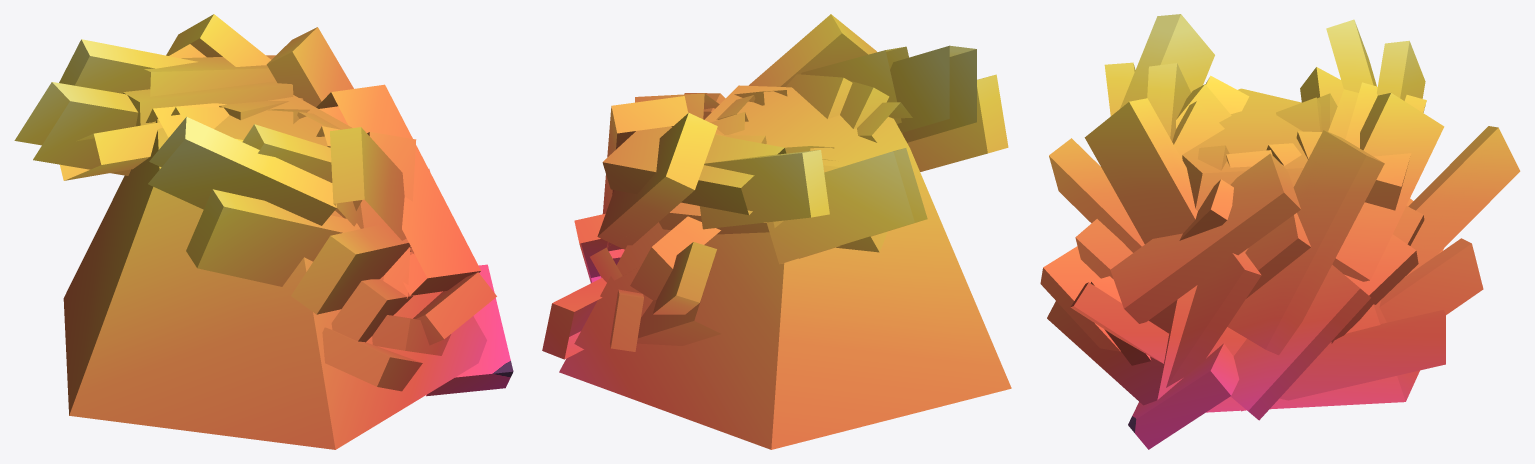
Rendered from column_lev_1.fbx.
3 views of the same model, side by side, from view 1: azimuth 30°, elevation 25°; view 2: azimuth 150°, elevation 25°; view 3: azimuth 270°, elevation 25° (orthographic). The views are drawn at different scales.
Visible parts, largest first — view 1: column_lev_2; view 2: column_lev_2; view 3: column_lev_2.
Part boxes in pixels (x1,y1,x2,y2): column_lev_2: (14, 14, 513, 449); column_lev_2: (542, 14, 1011, 449); column_lev_2: (1040, 14, 1520, 449).
Bounding box in the file's own units: 2916 × 2253 × 3244.
